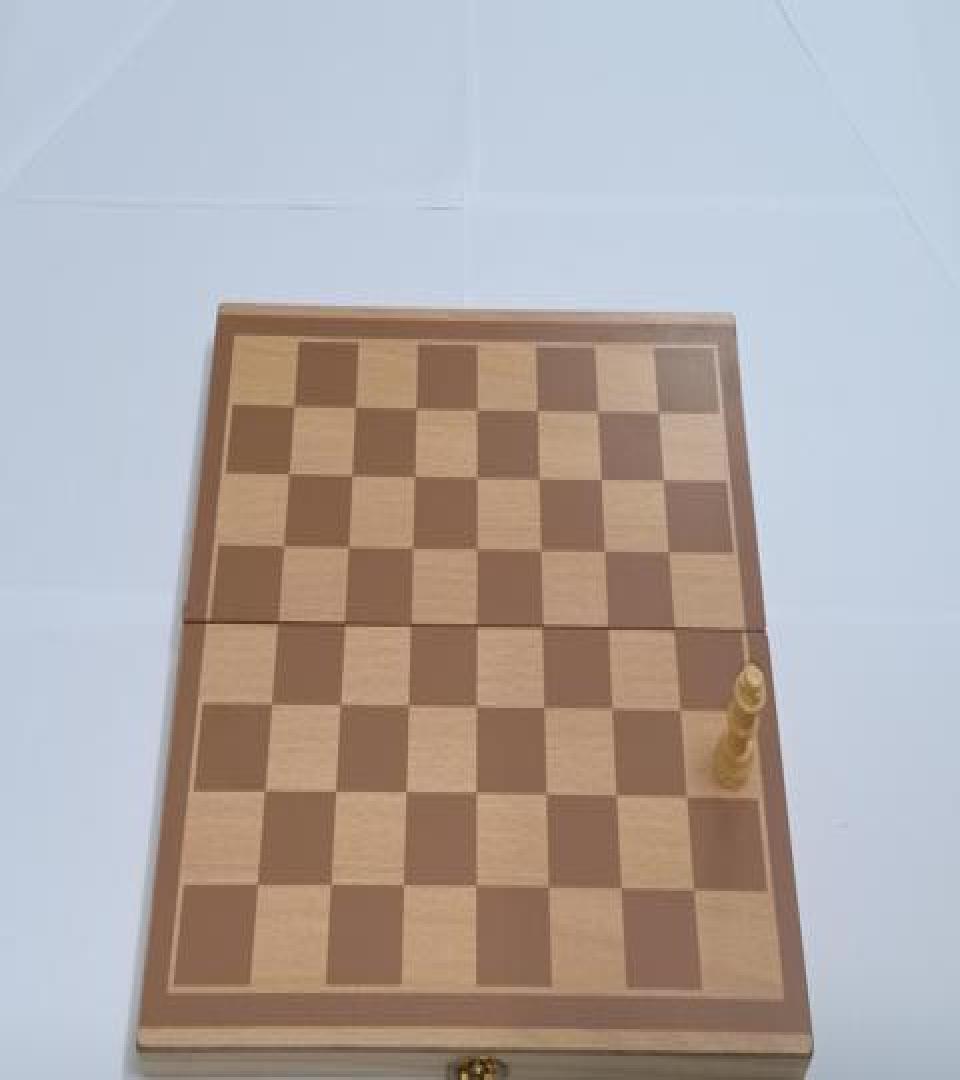xcorner: (263, 694, 281, 722), (346, 394, 364, 422), (406, 394, 424, 422), (593, 466, 611, 494), (655, 466, 673, 494), (285, 393, 303, 420), (280, 462, 298, 489), (269, 612, 287, 639), (250, 874, 268, 901), (331, 696, 349, 723), (327, 783, 345, 810), (322, 876, 340, 903), (403, 537, 421, 564), (399, 696, 417, 723), (397, 785, 415, 812), (467, 396, 485, 423), (467, 465, 485, 492), (468, 537, 486, 564), (468, 615, 486, 642), (468, 785, 486, 812), (468, 879, 486, 906), (528, 396, 546, 423), (530, 465, 548, 492), (532, 538, 550, 565), (534, 617, 552, 644), (536, 699, 554, 726), (539, 786, 557, 813), (541, 879, 559, 906), (589, 397, 607, 424), (597, 540, 615, 567), (601, 617, 619, 644), (605, 699, 623, 726), (614, 880, 632, 907), (650, 397, 668, 424), (661, 540, 679, 567), (667, 618, 685, 645), (673, 700, 691, 727), (680, 789, 698, 816), (687, 882, 705, 909), (275, 536, 293, 562), (256, 782, 274, 808), (342, 464, 360, 490), (339, 536, 357, 562), (335, 614, 353, 640), (405, 464, 423, 490), (401, 614, 419, 640), (395, 878, 413, 904), (468, 698, 486, 724), (609, 788, 627, 814)
